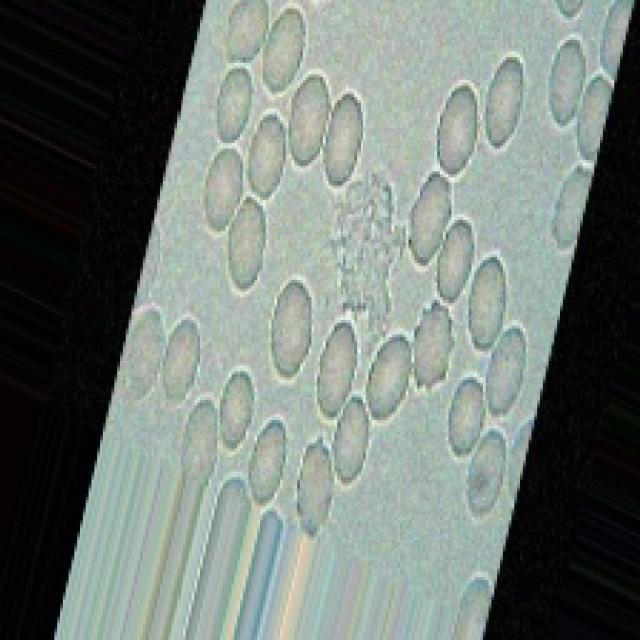Spherical_bacteria: (26, 0, 637, 637)
